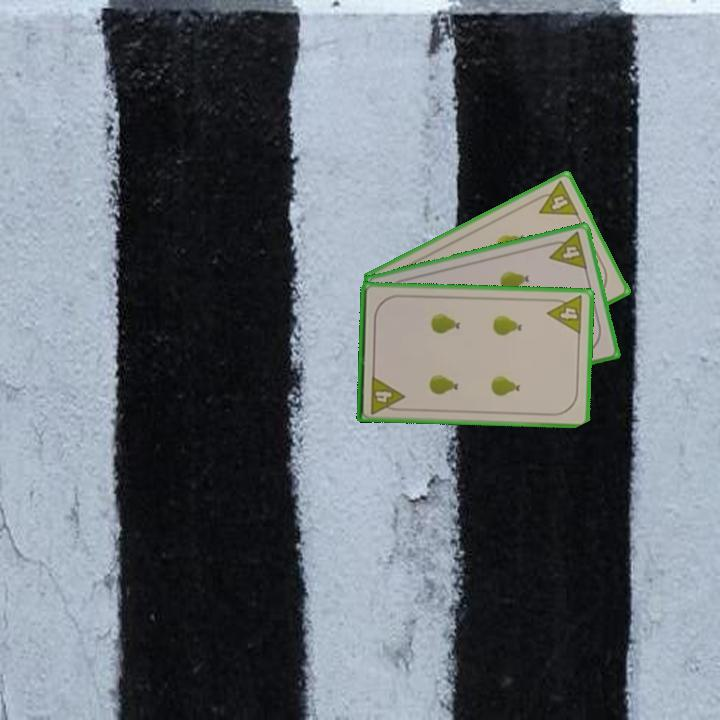4p: (530, 177, 582, 219), (543, 228, 590, 272), (544, 292, 586, 337), (367, 372, 407, 417)
